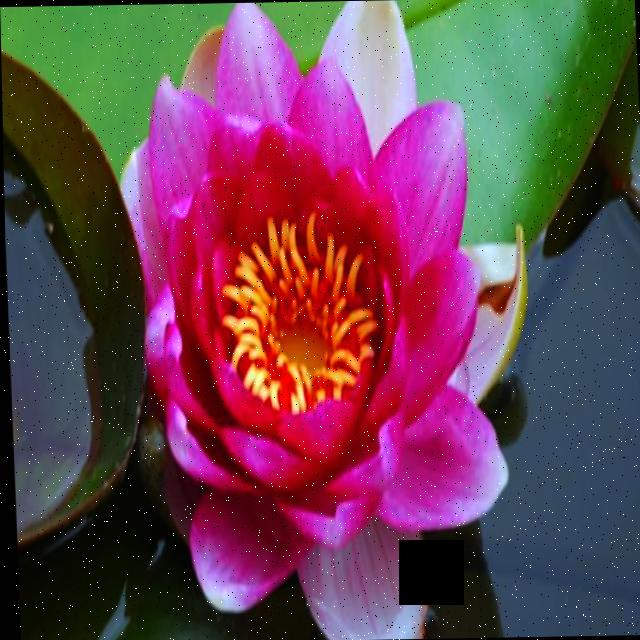rose: (64, 0, 626, 640)
